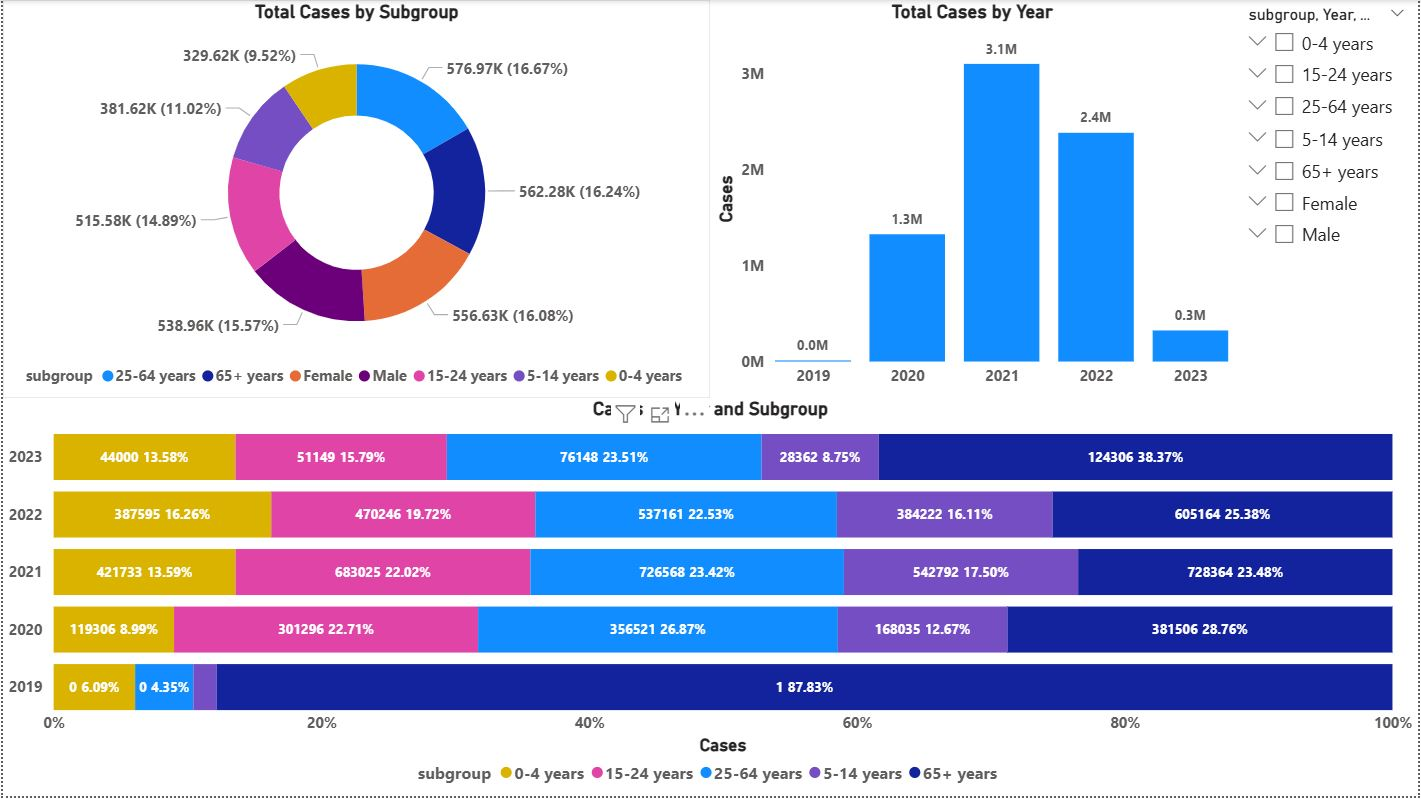

What the dashboard file says about the page in this screenshot:
{"tool":"powerbi","page":{"name":"Page 2","canvas":[1280,720],"ordinal":1},"visuals":[{"type":"hundredPercentStackedBarChart","title":"Cases  by Year and Subgroup","fields":{"Category":["powerbi_data.date.Variation.Date Hierarchy.Year","powerbi_data.date.Variation.Date Hierarchy.Quarter","powerbi_data.date.Variation.Date Hierarchy.Month","powerbi_data.date.Variation.Date Hierarchy.Day"],"Y":["powerbi_data.Cases_By_Age_Group"],"Series":["powerbi_data.subgroup"]},"box":[0,359.2,1280,359.2],"z":0},{"type":"donutChart","title":"Total Cases by Subgroup","fields":{"Y":["powerbi_data.Total_Cases"],"Category":["powerbi_data.subgroup"]},"box":[0,0,640,359.2],"z":1000},{"type":"slicer","fields":{"Values":["powerbi_data.subgroup","powerbi_data.date.Variation.Date Hierarchy.Year","powerbi_data.date.Variation.Date Hierarchy.Month"]},"box":[1113.5,0,166.5,359.2],"z":2000},{"type":"lineClusteredColumnComboChart","title":"Total Cases  by Year ","fields":{"Category":["powerbi_data.date.Variation.Date Hierarchy.Year","powerbi_data.date.Variation.Date Hierarchy.Quarter","powerbi_data.date.Variation.Date Hierarchy.Month","powerbi_data.date.Variation.Date Hierarchy.Day"],"Y":["powerbi_data.Cases_By_Age_Group"]},"box":[640,0,473.5,359.2],"z":3000}]}

Visuals, with their boxes in screenshot pixels (x1, y1, x2, y2), scaled from the page's 1280x720 canvas onto the 1421x799 screenshot:
"Cases  by Year and Subgroup" hundredPercentStackedBarChart: crop(0, 399, 1420, 797)
"Total Cases by Subgroup" donutChart: crop(0, 0, 710, 399)
slicer - powerbi_data.subgroup x powerbi_data.date.Variation.Date Hierarchy.Year: crop(1236, 0, 1420, 399)
"Total Cases  by Year " lineClusteredColumnComboChart: crop(710, 0, 1236, 399)
